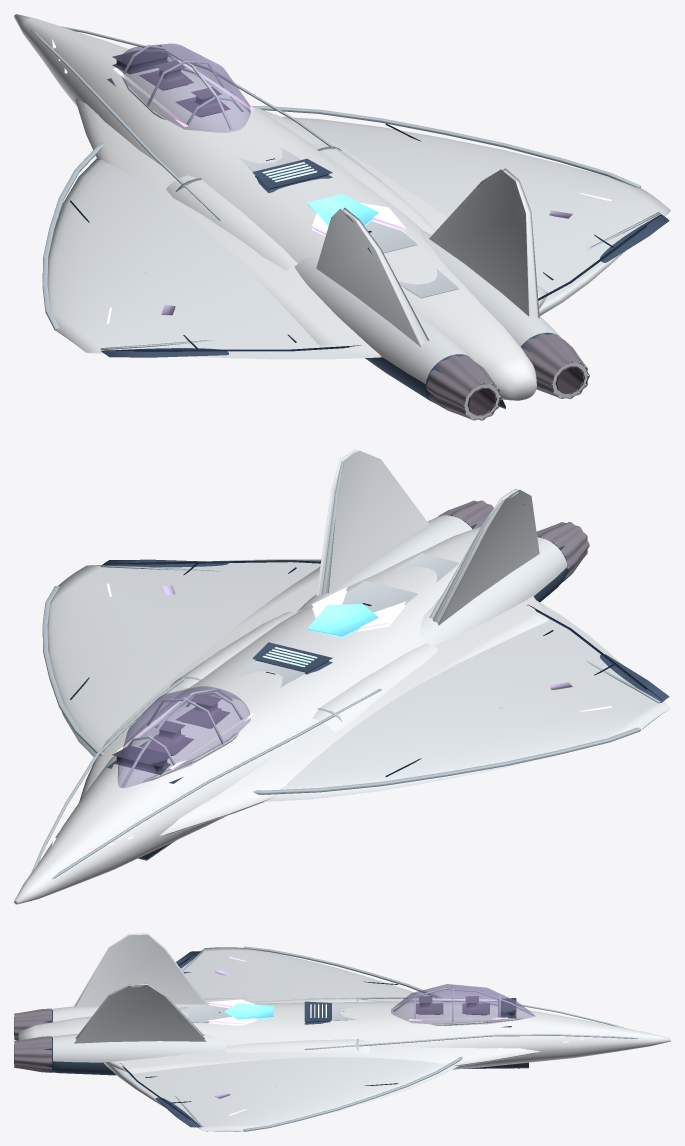
File: rieva-aeris-x.glb
3 views of the same model, one above another, from view 1: azimuth 30°, elevation 25°; view 2: azimuth 150°, elevation 25°; view 3: azimuth 270°, elevation 25° (orthographic). The views are drawn at different scales.
Parts seen in each view (by area): view 1: CRANKED_WING_L, FUSELAGE_PRESSURE_BODY, CRANKED_WING_R, CANTED_FIN_R, BLENDED_CENTERBODY_L, CANOPY_LAMINATE, CANTED_FIN_L, ENGINE_SHOULDER_COWL_L, INTAKE_SHOULDER_COWL_L, ENGINE_SHOULDER_COWL_R, LOBED_NOZZLE_L, LOBED_NOZZLE_R (+17 smaller); view 2: FUSELAGE_PRESSURE_BODY, CRANKED_WING_L, CRANKED_WING_R, BLENDED_CENTERBODY_L, CANTED_FIN_R, CANOPY_LAMINATE, CANTED_FIN_L, ENGINE_SHOULDER_COWL_L, BLENDED_CENTERBODY_R, INTAKE_SHOULDER_COWL_L, ENGINE_SHOULDER_COWL_R, LEADING_EDGE_WITNESS_L (+13 smaller); view 3: FUSELAGE_PRESSURE_BODY, CRANKED_WING_R, CRANKED_WING_L, CANTED_FIN_R, CANTED_FIN_L, BLENDED_CENTERBODY_R, CANOPY_LAMINATE, ENGINE_SHOULDER_COWL_R, INTAKE_SHOULDER_COWL_R, LOBED_NOZZLE_R, LEADING_EDGE_WITNESS_R, ENGINE_CASING_R (+12 smaller).
Boxes of the visible parts, x1,y1,x2,y2 form: CRANKED_WING_L: (47, 158, 381, 359); FUSELAGE_PRESSURE_BODY: (14, 14, 536, 400); CRANKED_WING_R: (282, 117, 670, 315); CANTED_FIN_R: (429, 168, 539, 318); BLENDED_CENTERBODY_L: (75, 98, 380, 355); CANOPY_LAMINATE: (120, 43, 250, 132); CANTED_FIN_L: (316, 207, 429, 346); ENGINE_SHOULDER_COWL_L: (295, 257, 471, 383); INTAKE_SHOULDER_COWL_L: (166, 175, 297, 270); ENGINE_SHOULDER_COWL_R: (420, 230, 562, 346); LOBED_NOZZLE_L: (426, 355, 501, 420); LOBED_NOZZLE_R: (522, 333, 589, 399); FUSELAGE_PRESSURE_BODY: (14, 526, 480, 904); CRANKED_WING_L: (264, 600, 670, 801); CRANKED_WING_R: (47, 559, 321, 756); BLENDED_CENTERBODY_L: (159, 596, 548, 835); CANTED_FIN_R: (316, 449, 429, 595); CANOPY_LAMINATE: (118, 686, 250, 787); CANTED_FIN_L: (429, 488, 539, 625); ENGINE_SHOULDER_COWL_L: (420, 537, 567, 645); BLENDED_CENTERBODY_R: (79, 567, 320, 802); INTAKE_SHOULDER_COWL_L: (312, 643, 438, 732); ENGINE_SHOULDER_COWL_R: (297, 515, 472, 611); LEADING_EDGE_WITNESS_L: (253, 727, 640, 794); FUSELAGE_PRESSURE_BODY: (18, 1001, 670, 1069); CRANKED_WING_R: (104, 1057, 458, 1131); CRANKED_WING_L: (181, 947, 433, 1001); CANTED_FIN_R: (74, 983, 206, 1043); CANTED_FIN_L: (74, 933, 206, 1007); BLENDED_CENTERBODY_R: (104, 1046, 540, 1073); CANOPY_LAMINATE: (391, 984, 534, 1025); ENGINE_SHOULDER_COWL_R: (53, 1033, 225, 1062); INTAKE_SHOULDER_COWL_R: (225, 1039, 369, 1055); LOBED_NOZZLE_R: (14, 1036, 51, 1072); LEADING_EDGE_WITNESS_R: (243, 1056, 462, 1131); ENGINE_CASING_R: (43, 1037, 116, 1075).
Bounding box in the file's own units: 9.58 × 2.64 × 14.47.
